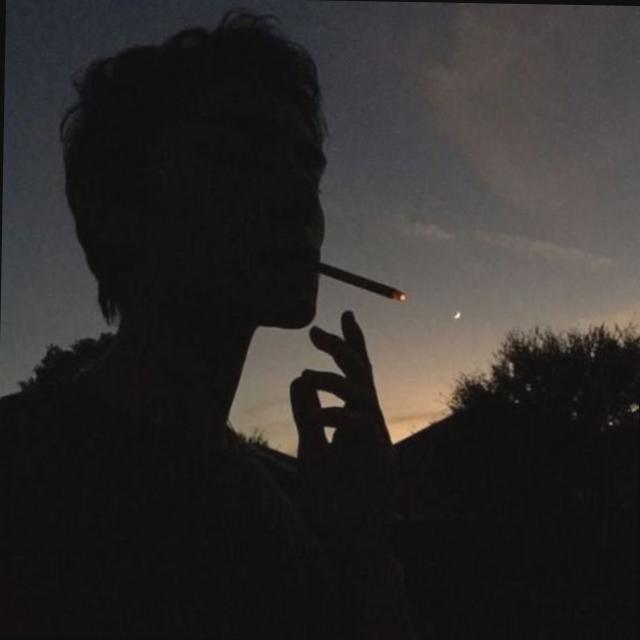smoke: (313, 258, 413, 304)
